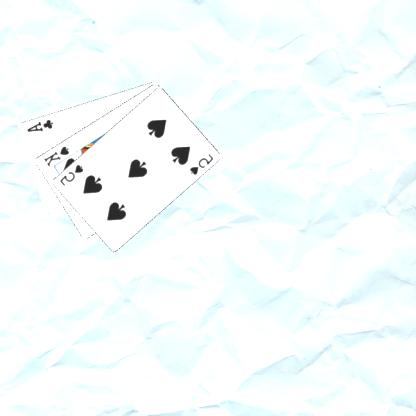5S: (58, 161, 86, 187), (189, 151, 216, 176)
AC: (26, 116, 56, 133)
KS: (43, 143, 72, 168)
